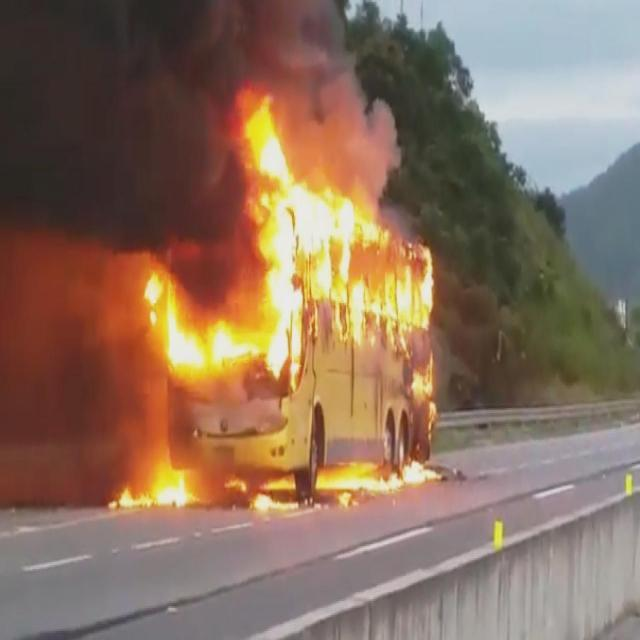Fire: (108, 279, 454, 515), (291, 171, 437, 270), (227, 82, 288, 269), (104, 240, 223, 274)
Smoke: (0, 7, 222, 236), (0, 244, 100, 512), (288, 0, 404, 166), (224, 0, 286, 77)
